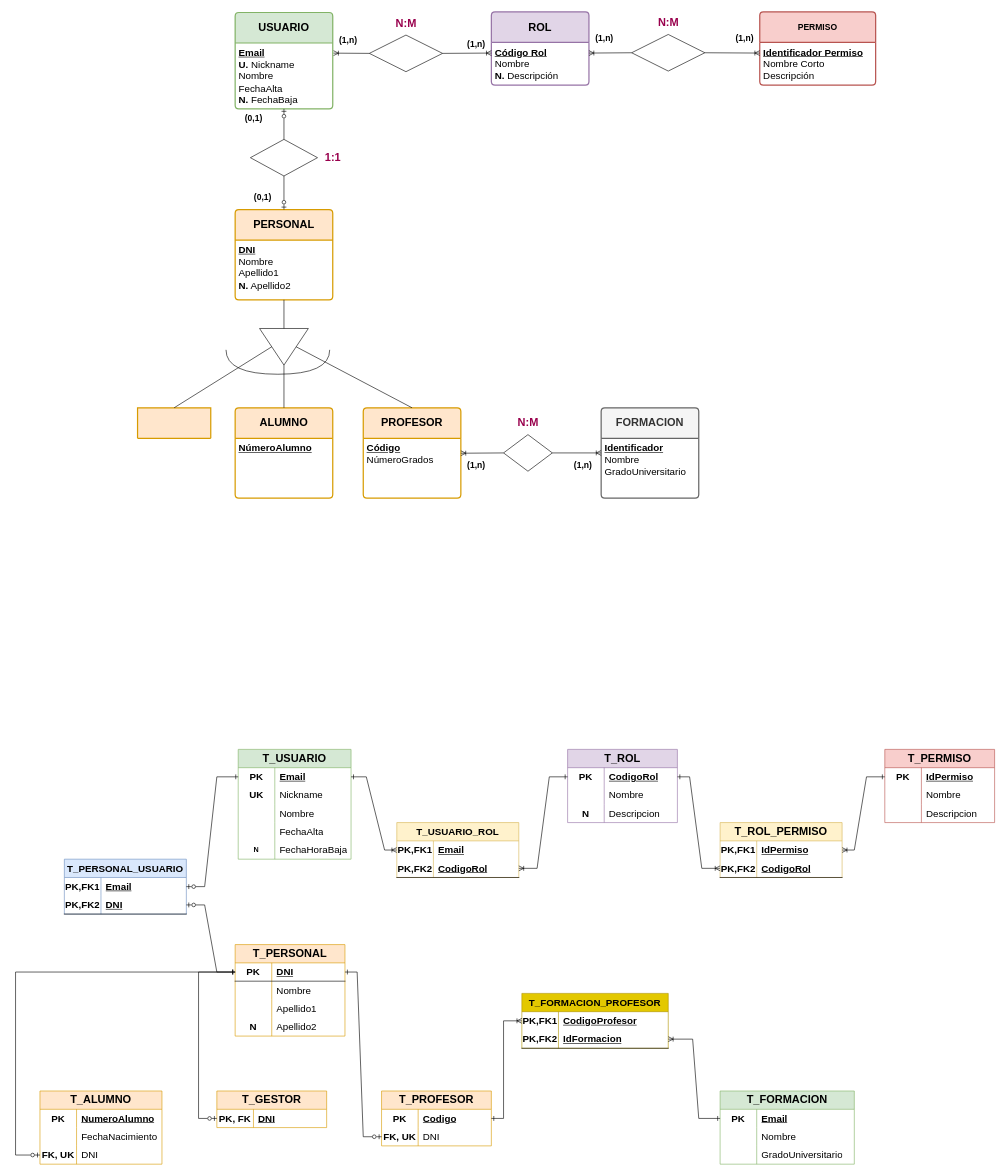
The diagram is 1005 pixels wide and 1175 high, and some of its shapes have lost their labels. Each missing label, with the centre of its shape:
"Asignar" belongs at (x=406, y=53).
"Asociar" belongs at (x=284, y=157).
"GESTOR" belongs at (x=174, y=423).
"Ofrecer" belongs at (x=668, y=52).
"Tener" belongs at (x=527, y=452).
